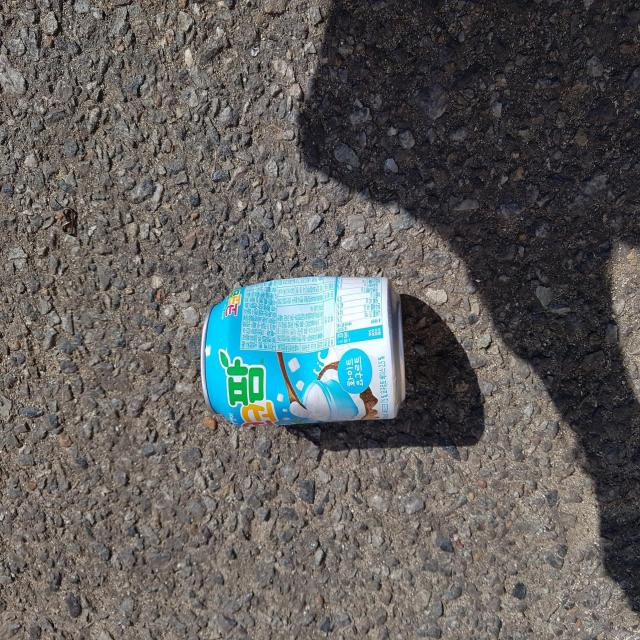can: (200, 276, 406, 427)
